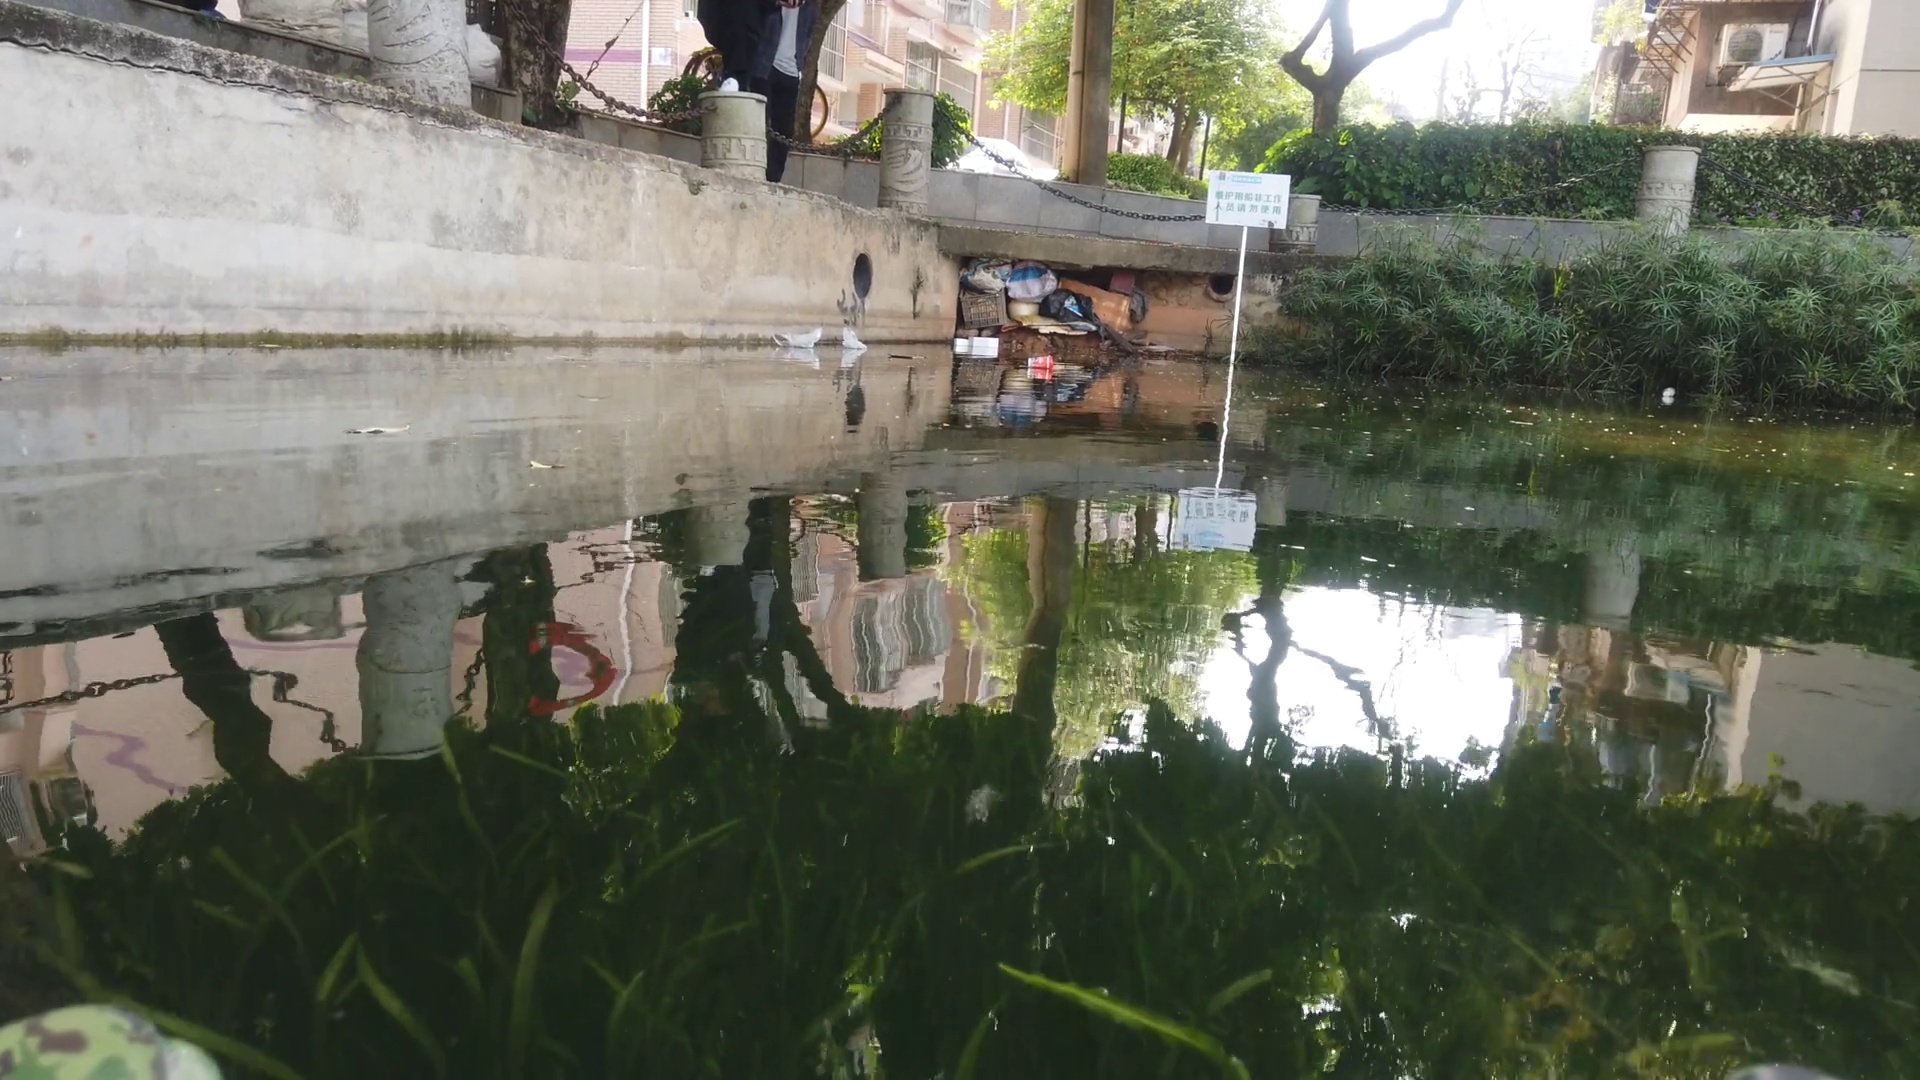bottle: (1027, 355, 1056, 367), (1660, 386, 1681, 397)
carton: (968, 335, 1004, 349), (949, 334, 971, 347)
paper: (891, 349, 927, 364)
plastic: (770, 324, 823, 347), (835, 326, 869, 349)
